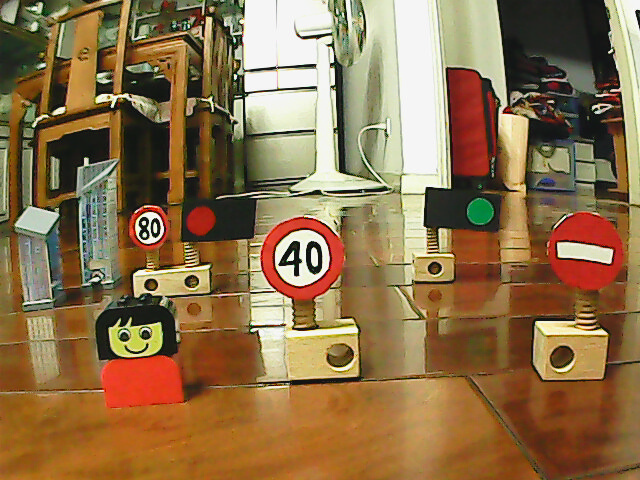Green Traffic Light: (457, 193, 499, 230)
Person: (92, 293, 186, 409)
Red Traffic Light: (179, 199, 221, 241)
Speed Limit 40: (259, 215, 347, 300)
Speed Limit 80: (126, 203, 170, 252)
Stop Sign: (542, 209, 627, 292)
